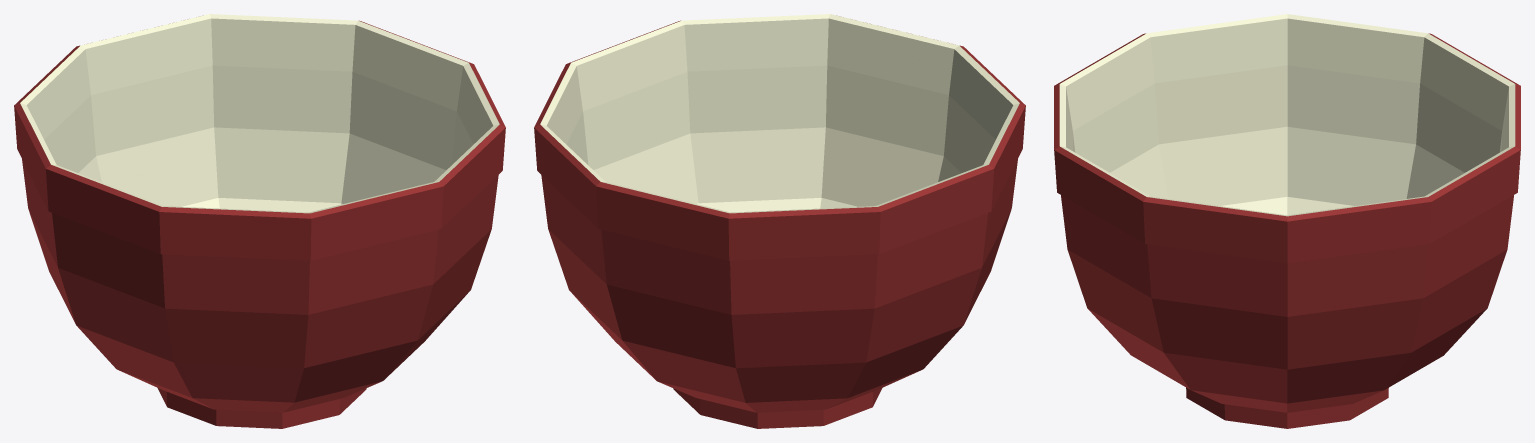
File: Red Bowl.fbx
3 views of the same model, side by side, from view 1: azimuth 30°, elevation 25°; view 2: azimuth 150°, elevation 25°; view 3: azimuth 270°, elevation 25° (orthographic).
Visible parts, largest first — view 1: bowl; view 2: bowl; view 3: bowl.
Part boxes in pixels (x1,y1,x2,y2): bowl: (14,14,505,428); bowl: (534,14,1025,428); bowl: (1054,14,1520,428).
Bounding box in the file's own units: 230 × 139 × 218.
